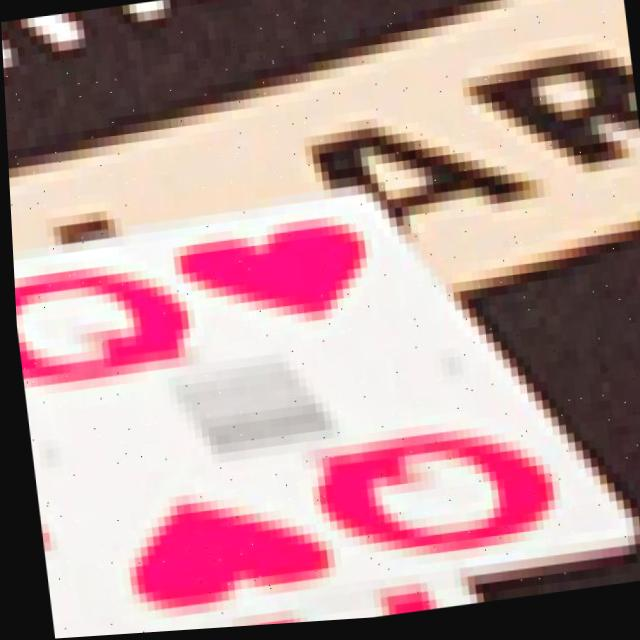Card-Q: (10, 191, 633, 639)
